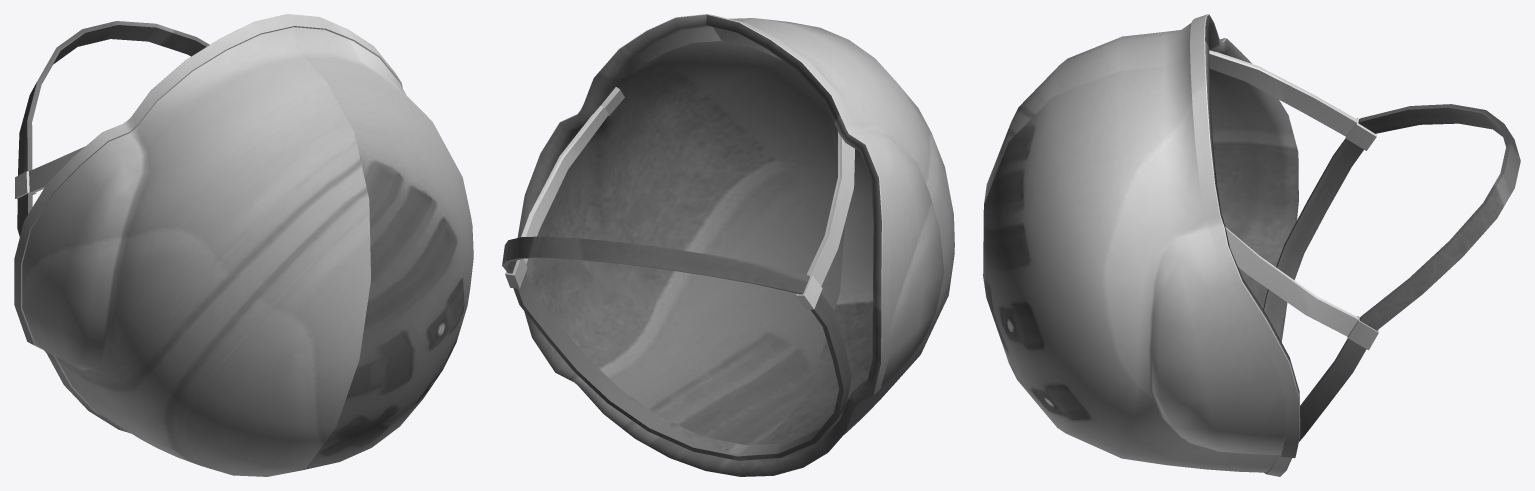
The model's file is Headwear39.glb.
3 renders of one model, left to right at view 1: azimuth 30°, elevation 25°; view 2: azimuth 150°, elevation 25°; view 3: azimuth 270°, elevation 25°, orthographic. The views are drawn at different scales.
Visible parts, largest first — view 1: Headwear39; view 2: Headwear39; view 3: Headwear39.
Boxes of the visible parts, x1,y1,x2,y2 form: Headwear39: (14,14,473,476); Headwear39: (502,14,954,476); Headwear39: (983,14,1520,476).
Size of the model in its own units: 2.09 by 2.27 by 2.53.
1 material, 1 textured.
